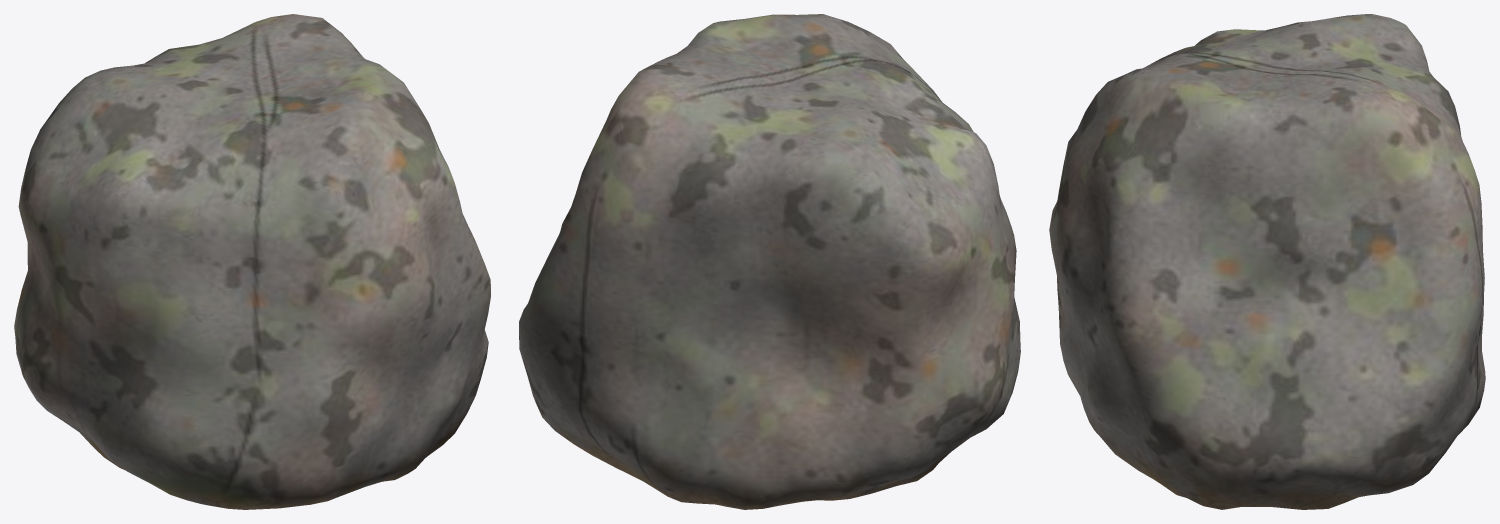
File: rock_b.glb
The picture shows the model from 3 angles, left to right: view 1: azimuth 30°, elevation 25°; view 2: azimuth 150°, elevation 25°; view 3: azimuth 270°, elevation 25°; orthographic projection. The views are drawn at different scales.
Visible parts, largest first — view 1: rock_b; view 2: rock_b; view 3: rock_b.
Boxes of the visible parts, x1=… form: rock_b: x1=14, y1=14, x2=490, y2=509; rock_b: x1=519, y1=14, x2=1020, y2=509; rock_b: x1=1049, y1=14, x2=1485, y2=509.
Size of the model in its own units: 1.24 by 1.05 by 1.09.
1 material, 1 textured.
